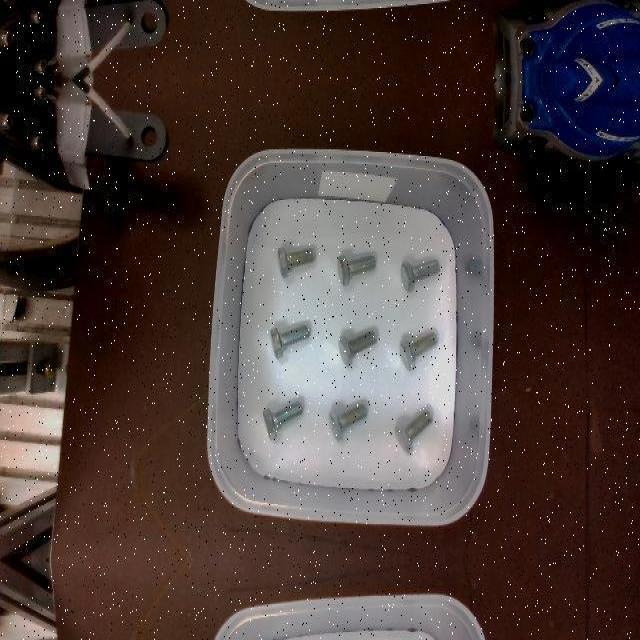screw: (394, 409, 432, 453), (264, 400, 303, 440), (398, 331, 438, 369), (329, 403, 367, 441), (339, 329, 377, 365), (271, 325, 310, 359), (401, 260, 439, 292), (278, 246, 314, 278), (337, 254, 375, 284)
